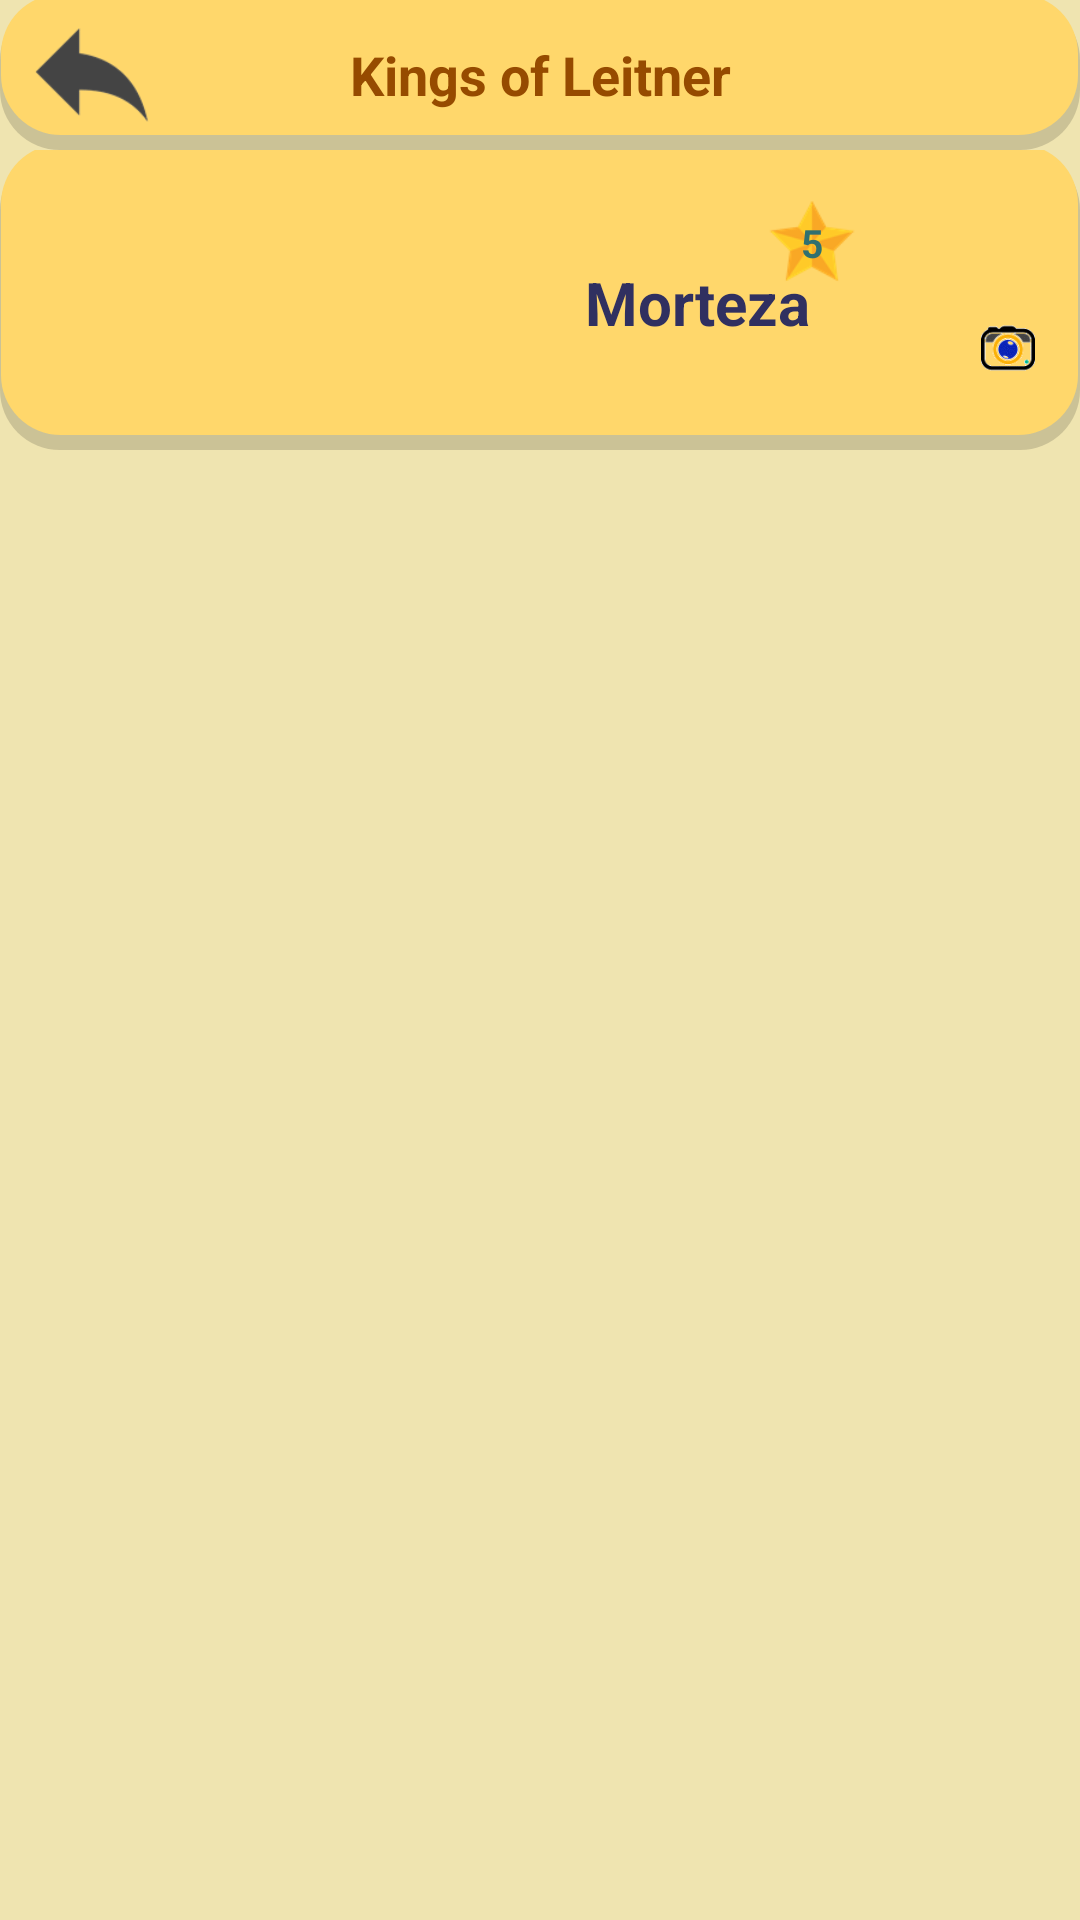

Locate icon controls on the screen. Image size 1080×1920, boxes as bbox=(x1, y1, x2, y2).
camera: bbox=(981, 325, 1035, 371)
resultback: bbox=(36, 28, 148, 121)
star: bbox=(771, 202, 853, 281)
